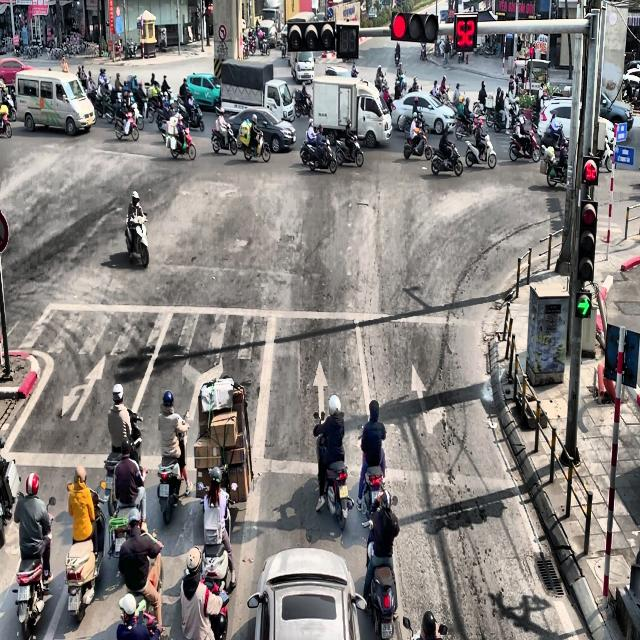CAR: (247, 546, 367, 640), (227, 108, 296, 153), (391, 92, 456, 134), (184, 72, 221, 111), (0, 57, 34, 88)
MOTORBIKE: (13, 498, 56, 639), (64, 483, 107, 623), (361, 519, 398, 639), (108, 465, 148, 558), (157, 412, 190, 524), (316, 436, 354, 530), (103, 409, 143, 492), (356, 424, 387, 518), (0, 435, 21, 547), (299, 136, 337, 174), (125, 213, 148, 267), (464, 131, 496, 169), (509, 125, 541, 162), (430, 142, 463, 176), (167, 124, 196, 160), (334, 134, 364, 167), (177, 95, 204, 131), (403, 127, 432, 160), (243, 128, 270, 162), (210, 123, 238, 155), (540, 123, 566, 154), (114, 108, 139, 140), (0, 80, 17, 121), (546, 156, 568, 187), (596, 136, 614, 172), (456, 112, 476, 140), (294, 89, 312, 118), (0, 105, 12, 138), (394, 74, 407, 98), (259, 36, 270, 56), (420, 42, 427, 61)
TRAFFIC_LIGHT: (577, 199, 598, 282), (286, 18, 336, 52), (390, 11, 439, 42), (453, 13, 478, 52), (582, 156, 599, 186)
